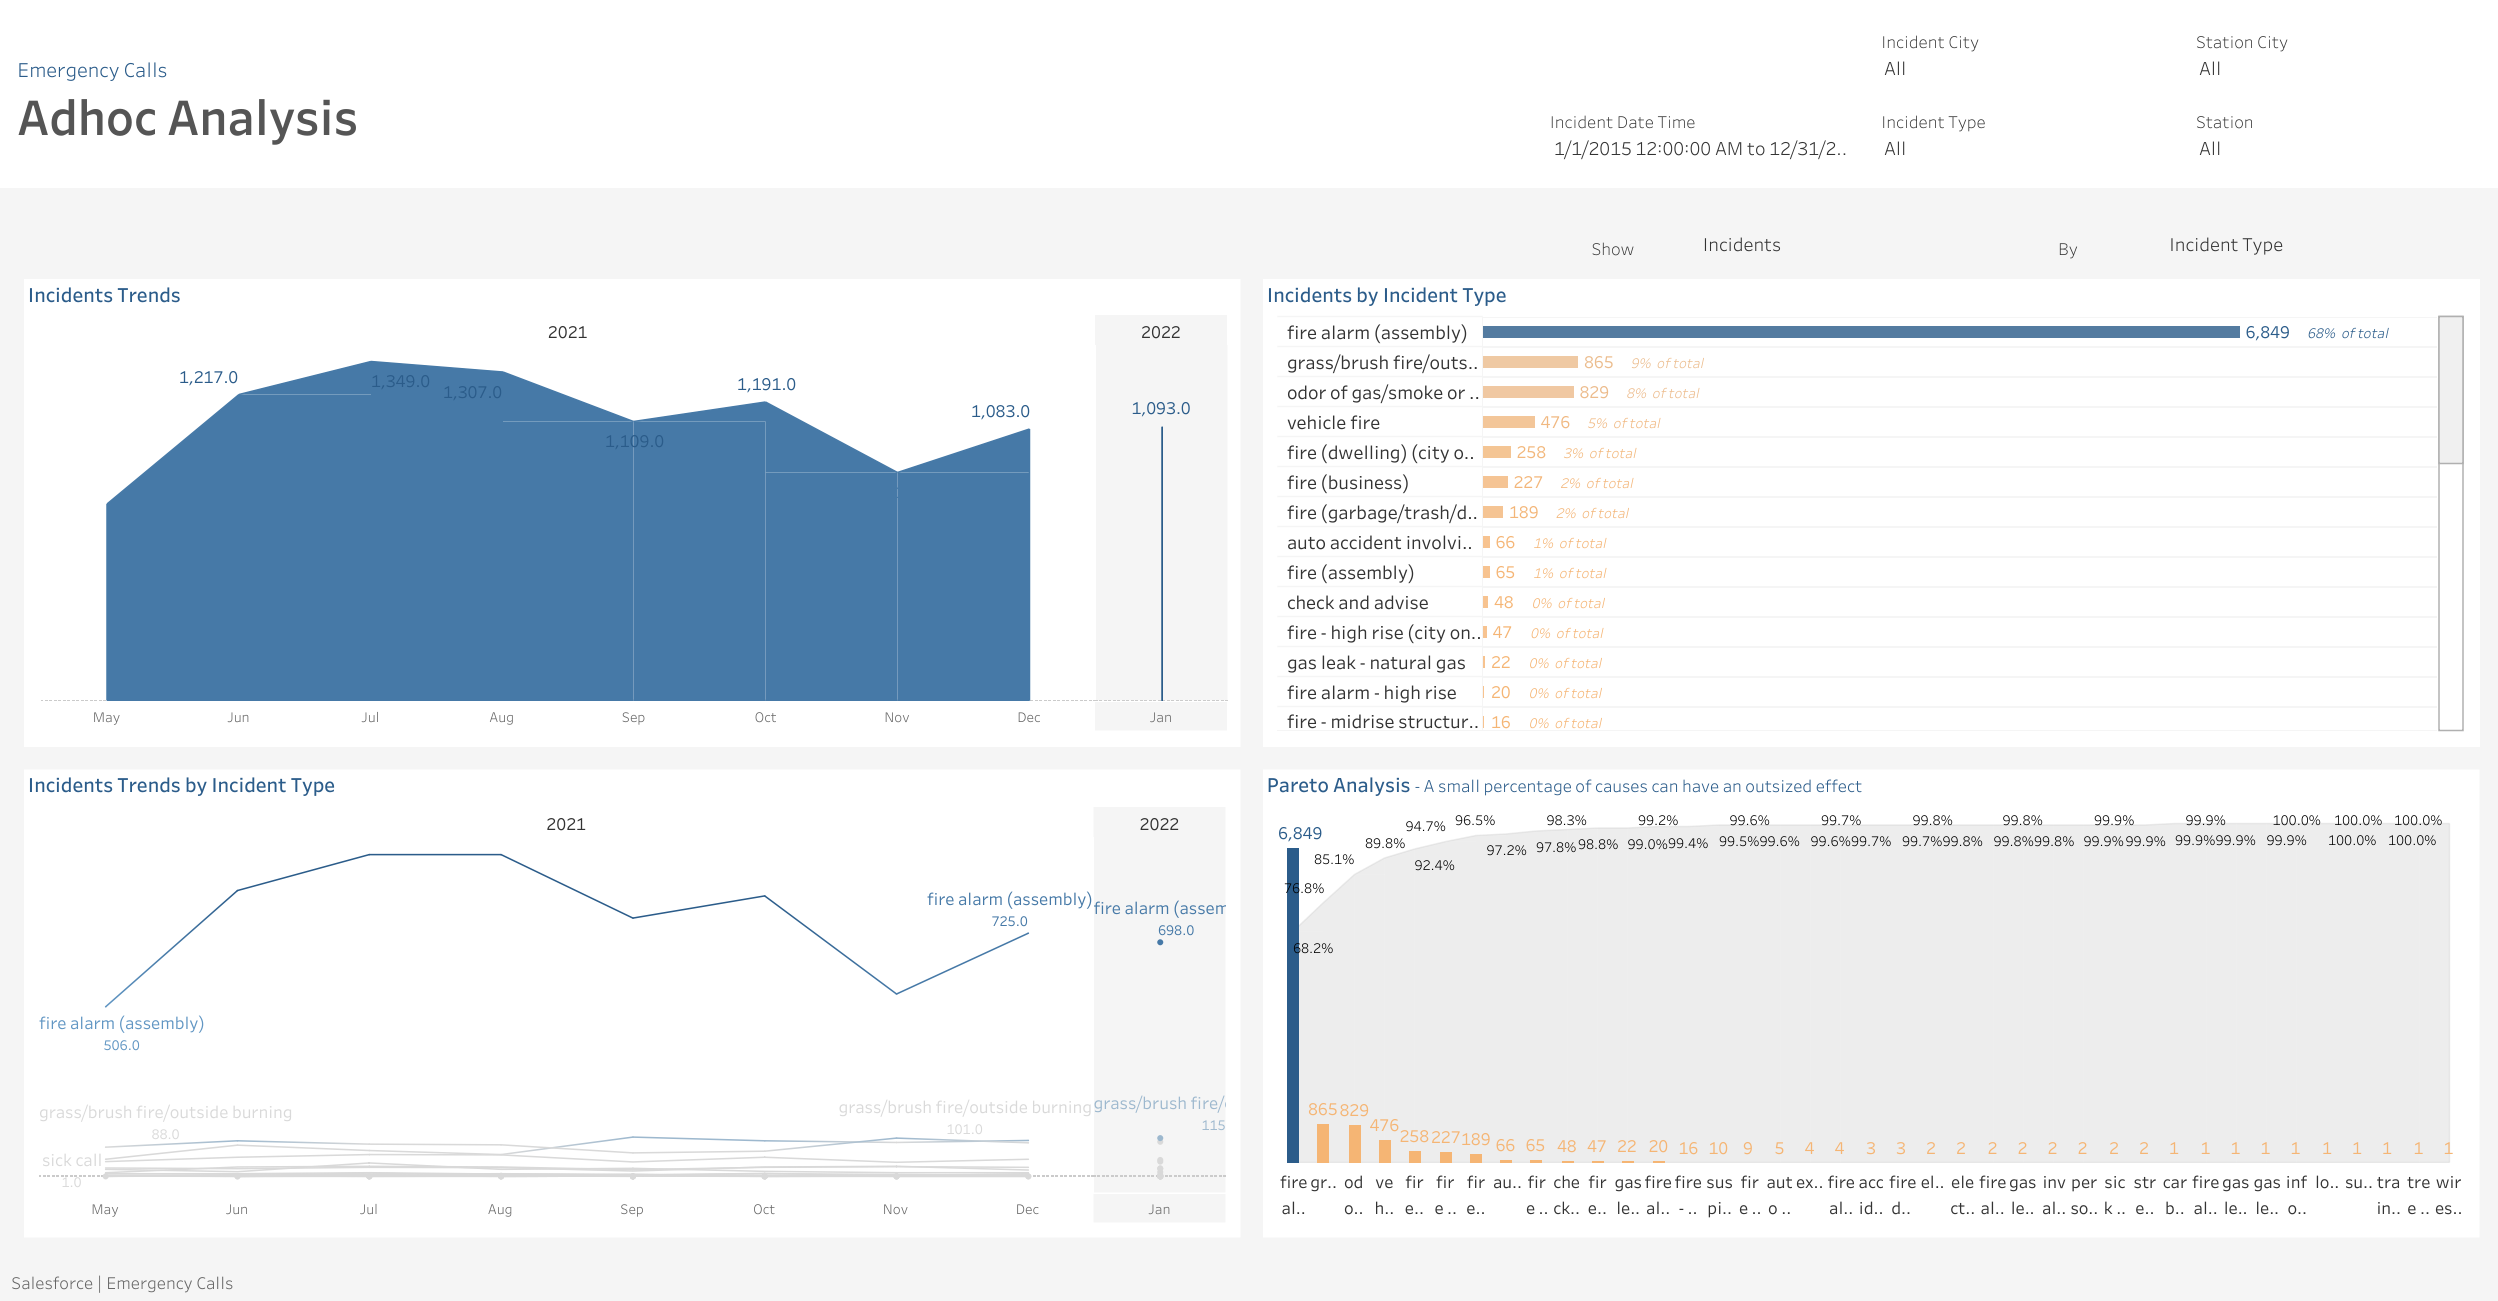

The page's visual inventory and layout, read from the dashboard file:
{"tool":"tableau","page":{"name":"Adhoc","canvas":[1666,868],"ordinal":1},"visuals":[{"type":"title","box":[0,0,1666,125]},{"type":"filter","title":"Dynamic - Bar Chart","param":"[federated.0310euv0frhuil1h4p3ir1t0l0ah].[none:Incident City:nk]","box":[1254,18,197,47]},{"type":"filter","title":"Dynamic - Bar Chart","param":"[federated.0310euv0frhuil1h4p3ir1t0l0ah].[none:Station City:nk]","box":[1464,18,197,47]},{"type":"filter","title":"Dynamic - Bar Chart","param":"[federated.0310euv0frhuil1h4p3ir1t0l0ah].[none:Incident Date Time:qk]","box":[1033,71,198,47]},{"type":"filter","title":"Dynamic - Bar Chart","param":"[federated.0310euv0frhuil1h4p3ir1t0l0ah].[none:Incident Type:nk]","box":[1254,71,197,47]},{"type":"filter","title":"Dynamic - Bar Chart","param":"[federated.0310euv0frhuil1h4p3ir1t0l0ah].[none:Station:nk]","box":[1464,71,197,47]},{"type":"text","box":[0,125,1666,743]},{"type":"parameter","param":"[Parameters].[LinPack_506065957243084138]","box":[1061,153,283,25]},{"type":"parameter","param":"[Parameters].[LinPack_936064189058009736]","box":[1372,153,283,25]},{"type":"text","box":[16,186,811,312]},{"type":"text","box":[842,186,811,312]},{"type":"worksheet","title":"Dynamic - Trends Analysis + Peak - Line Chart","mark":"Area","rows":["LinPack_105325241176033401"],"cols":["LinPack_218103741501526854","Incident Date Time"],"box":[27,210,791,277]},{"type":"worksheet","title":"Dynamic - Bar Chart","mark":"Bar","rows":["LinPack_293475291363497950"],"cols":["LinPack_105325241176033401"],"box":[852,211,791,277]},{"type":"text","box":[16,513,811,312]},{"type":"text","box":[842,513,811,312]},{"type":"worksheet","title":"Dynamic - Trends Analysis + Peak - Line Chart (dy dimension)","mark":"Line","rows":["LinPack_105325241176033401"],"cols":["LinPack_218103741501526854","Incident Date Time"],"box":[26,538,791,277]},{"type":"worksheet","title":"Dynamic - Pareto","mark":"Automatic","rows":["LinPack_105325241176033401","LinPack_105325241176033401"],"cols":["LinPack_293475291363497950"],"box":[852,538,791,277]}]}

Visuals, with their boxes in screenshot pixels (x1, y1, x2, y2), scaled from the page's 1666x868 canvas onto the 2498x1301 screenshot:
title: detection(0, 0, 2497, 187)
"Dynamic - Bar Chart" filter: detection(1880, 27, 2176, 97)
"Dynamic - Bar Chart" filter: detection(2195, 27, 2491, 97)
"Dynamic - Bar Chart" filter: detection(1549, 106, 1846, 177)
"Dynamic - Bar Chart" filter: detection(1880, 106, 2176, 177)
"Dynamic - Bar Chart" filter: detection(2195, 106, 2491, 177)
text: detection(0, 187, 2497, 1300)
parameter: detection(1591, 229, 2015, 267)
parameter: detection(2057, 229, 2482, 267)
text: detection(24, 279, 1240, 746)
text: detection(1262, 279, 2479, 746)
"Dynamic - Trends Analysis + Peak - Line Chart" worksheet (Area marks): detection(40, 315, 1227, 730)
"Dynamic - Bar Chart" worksheet (Bar marks): detection(1277, 316, 2464, 731)
text: detection(24, 769, 1240, 1237)
text: detection(1262, 769, 2479, 1237)
"Dynamic - Trends Analysis + Peak - Line Chart (dy dimension)" worksheet (Line marks): detection(39, 806, 1225, 1222)
"Dynamic - Pareto" worksheet: detection(1277, 806, 2464, 1222)
